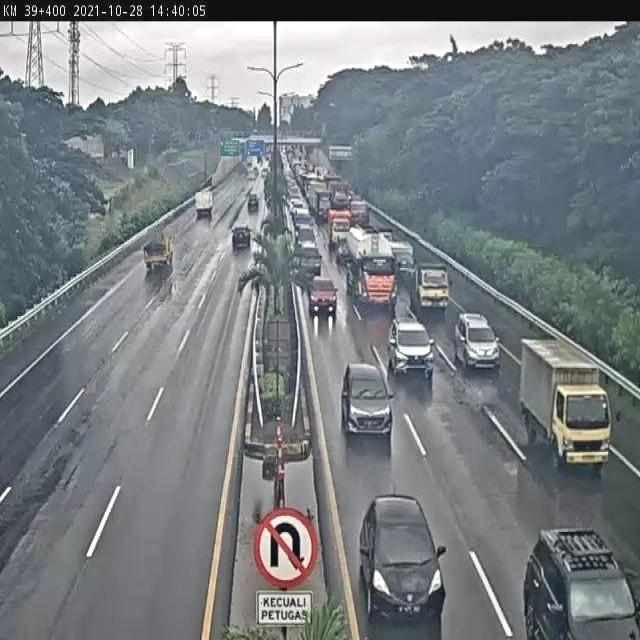Car: (523, 526, 640, 638), (358, 495, 446, 636), (340, 362, 395, 446), (386, 316, 436, 384), (455, 312, 500, 369), (307, 277, 338, 319), (300, 245, 322, 278), (194, 190, 214, 220), (232, 225, 251, 250), (248, 193, 260, 212)
Truck: (520, 341, 610, 471), (343, 226, 399, 311), (416, 263, 449, 310), (387, 240, 416, 285), (143, 232, 174, 269), (326, 208, 352, 250), (309, 185, 333, 221), (349, 198, 368, 226)
